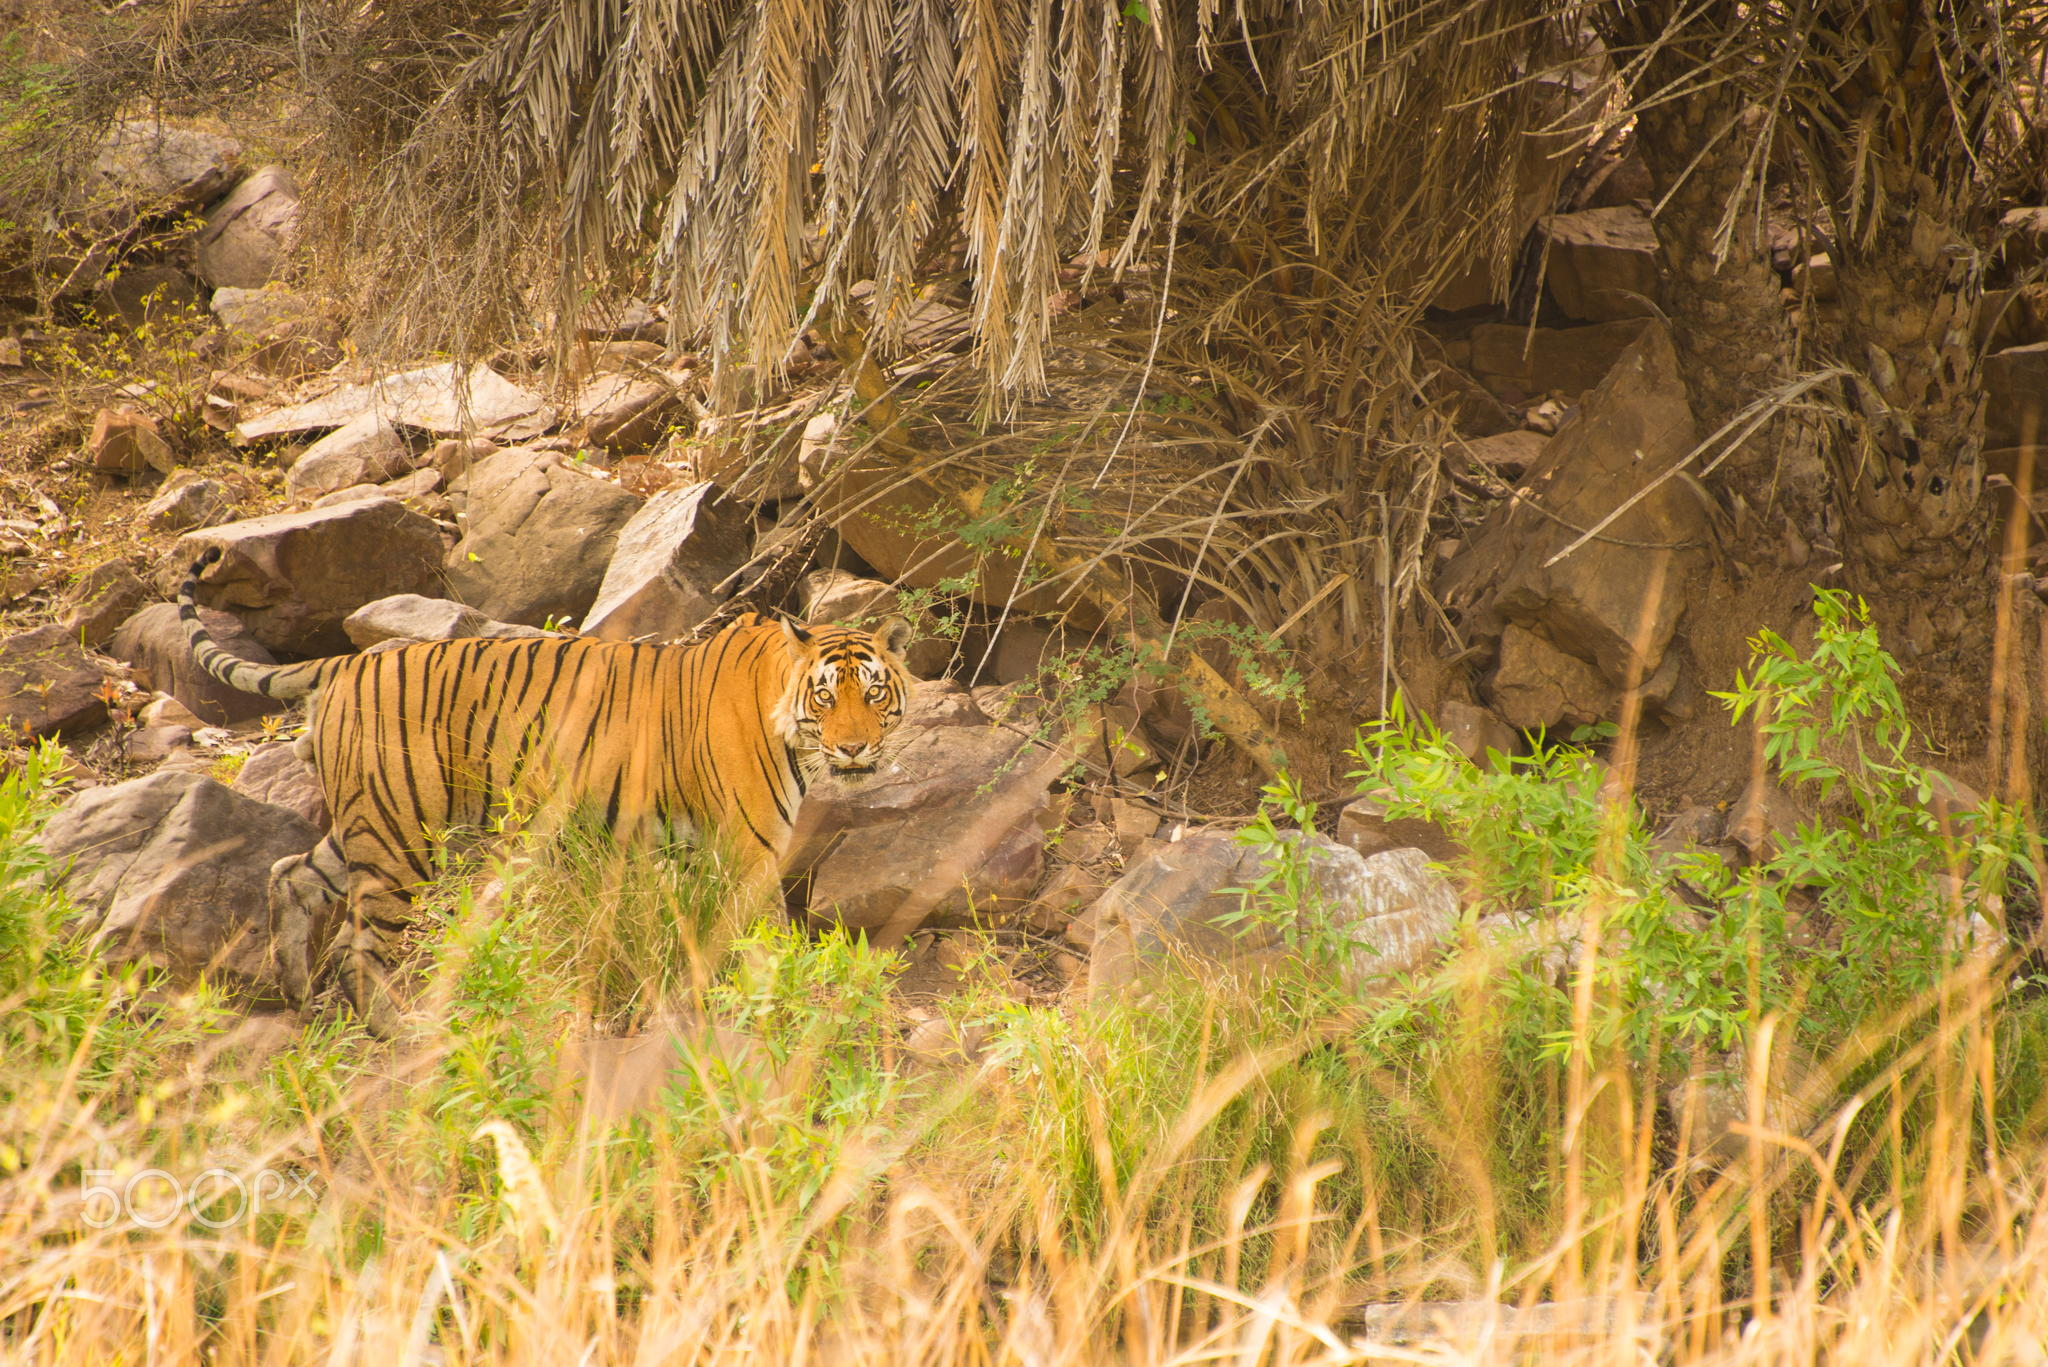tiger: (229, 587, 920, 983)
